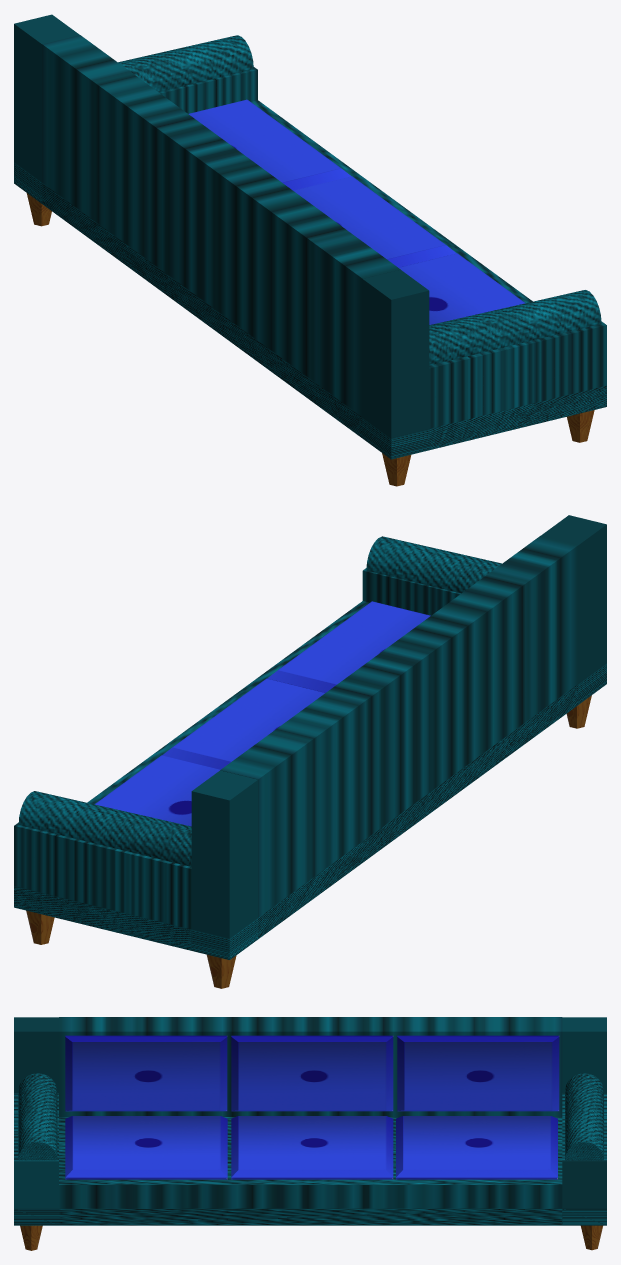
The model's file is pokeSillon.obj.
3 renders of one model, top to bottom at view 1: azimuth 30°, elevation 25°; view 2: azimuth 150°, elevation 25°; view 3: azimuth 270°, elevation 25°, orthographic. The views are drawn at different scales.
Visible parts, largest first — view 1: pCube3; view 2: pCube3; view 3: pCube3.
Part boxes in pixels (bbox=[...]): pCube3: bbox=[14, 14, 606, 486]; pCube3: bbox=[14, 515, 606, 988]; pCube3: bbox=[14, 1017, 606, 1250].
Size of the model in its own units: 5.94 by 5.17 by 17.99.
13 materials, 13 textured.
